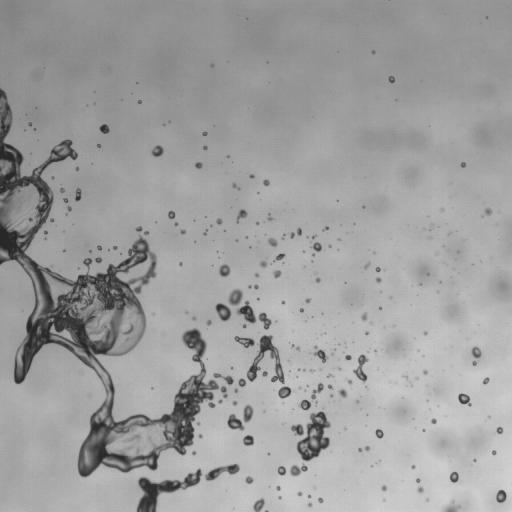droplet: (238, 335, 292, 398), (291, 410, 330, 461), (227, 404, 253, 430), (215, 303, 231, 321), (441, 500, 460, 511), (290, 464, 307, 476), (151, 145, 163, 157), (458, 393, 470, 405), (253, 498, 264, 511), (236, 209, 247, 221), (219, 264, 230, 276), (298, 399, 310, 410), (496, 490, 506, 503), (243, 435, 253, 445), (449, 471, 458, 482), (99, 124, 109, 133), (311, 242, 321, 251), (83, 258, 92, 268), (338, 388, 347, 397), (277, 466, 286, 475), (274, 253, 284, 261), (375, 428, 383, 438), (268, 238, 277, 246), (272, 270, 281, 278), (168, 210, 175, 218), (259, 260, 267, 267), (245, 476, 253, 483), (361, 312, 367, 321), (195, 162, 202, 169), (484, 208, 491, 215), (495, 427, 502, 434), (263, 179, 269, 186), (216, 218, 222, 225), (135, 226, 142, 232), (94, 257, 101, 263), (483, 377, 489, 384), (388, 76, 394, 82), (364, 262, 370, 268), (346, 378, 352, 384), (417, 486, 423, 492), (289, 232, 294, 238), (345, 355, 351, 360), (381, 485, 386, 491), (297, 228, 301, 235), (323, 226, 328, 231), (180, 229, 185, 234), (315, 277, 320, 282), (376, 277, 381, 282), (253, 284, 258, 289), (305, 298, 310, 303), (431, 418, 436, 423), (318, 497, 323, 502), (294, 346, 300, 350), (461, 162, 465, 167), (249, 174, 254, 178), (67, 206, 71, 211), (268, 215, 272, 220), (97, 245, 101, 250), (375, 267, 380, 271), (207, 320, 211, 325), (327, 373, 332, 377), (328, 385, 333, 389), (232, 401, 237, 405), (491, 450, 496, 454), (203, 145, 207, 149), (60, 188, 64, 192), (63, 198, 67, 202), (113, 246, 117, 250), (281, 300, 285, 304), (423, 370, 427, 374), (198, 434, 202, 438), (365, 446, 369, 450), (358, 448, 362, 452), (411, 465, 415, 469), (416, 478, 420, 482), (276, 486, 280, 490), (298, 492, 302, 496), (28, 122, 32, 125), (144, 231, 148, 234), (312, 235, 316, 238), (255, 273, 258, 277), (300, 308, 303, 312), (310, 369, 314, 372), (308, 503, 312, 506), (372, 50, 375, 53), (138, 100, 141, 103), (203, 132, 206, 135), (97, 144, 100, 147), (75, 167, 78, 170), (50, 218, 53, 221), (174, 222, 177, 225), (203, 231, 206, 234), (192, 317, 195, 320), (365, 331, 368, 334), (424, 331, 427, 334), (337, 367, 340, 370), (403, 375, 406, 378), (234, 389, 237, 392), (192, 451, 195, 454), (256, 222, 259, 224), (44, 231, 47, 233), (282, 235, 284, 238), (179, 263, 182, 265), (473, 459, 476, 461), (441, 208, 443, 210), (338, 238, 340, 240), (186, 311, 188, 313), (374, 350, 376, 352), (197, 422, 199, 424), (308, 495, 310, 497)
ligament: (0, 88, 233, 474), (136, 468, 202, 511), (228, 288, 271, 329), (205, 463, 239, 481), (353, 354, 368, 382), (311, 345, 328, 362), (234, 336, 255, 347), (311, 382, 323, 401), (471, 346, 481, 365), (75, 188, 81, 201), (232, 183, 239, 189)
